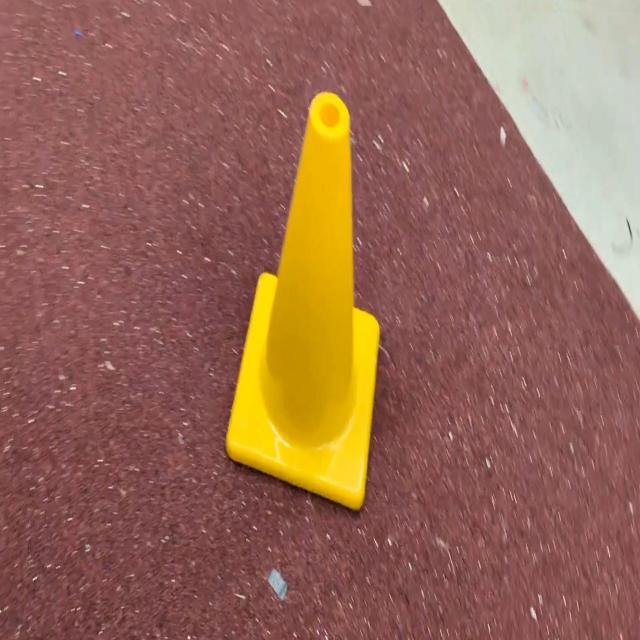frc_cone: (225, 84, 384, 513)
